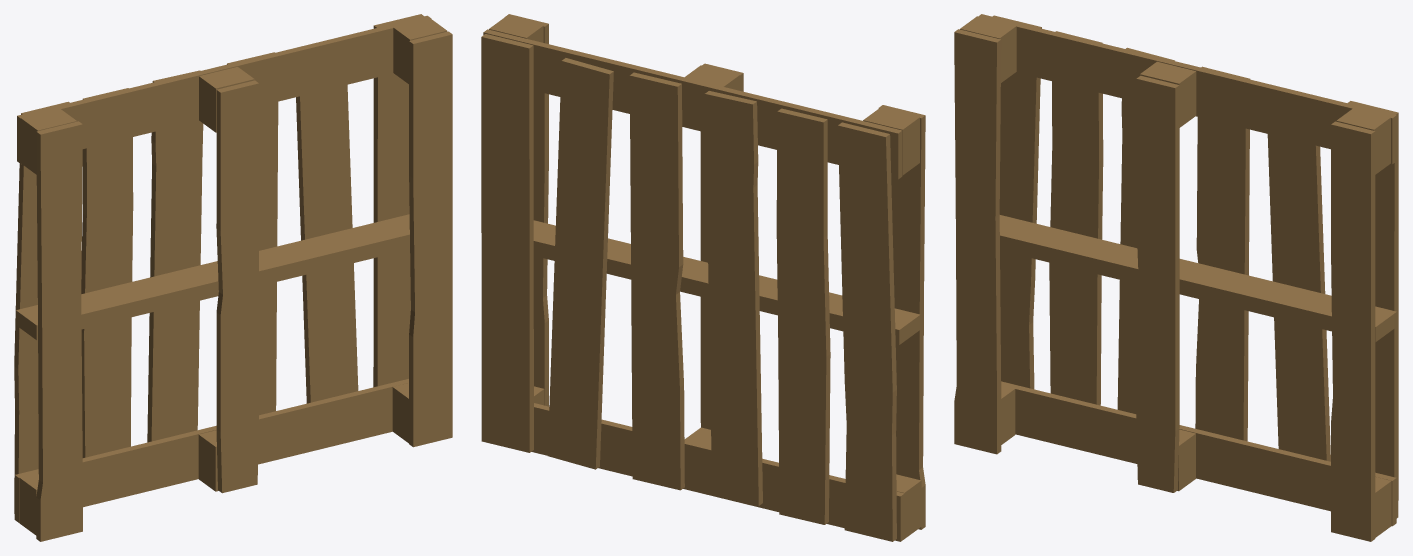
Rendered from Palette.fbx.
The picture shows the model from 3 angles, left to right: view 1: azimuth 30°, elevation 25°; view 2: azimuth 150°, elevation 25°; view 3: azimuth 330°, elevation 25°; orthographic projection.
Visible parts, largest first — view 1: Palette; view 2: Palette; view 3: Palette.
Part boxes in pixels (x1,y1,x2,y2): Palette: (14,14,452,541); Palette: (481,14,925,541); Palette: (954,14,1398,541).
Bounding box in the file's own units: 1.17 × 1.1 × 0.1444.
